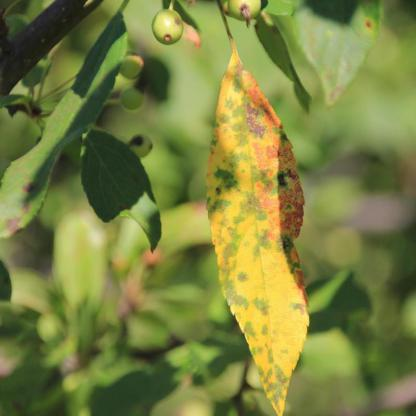apple scab leaf: (201, 47, 317, 415)
